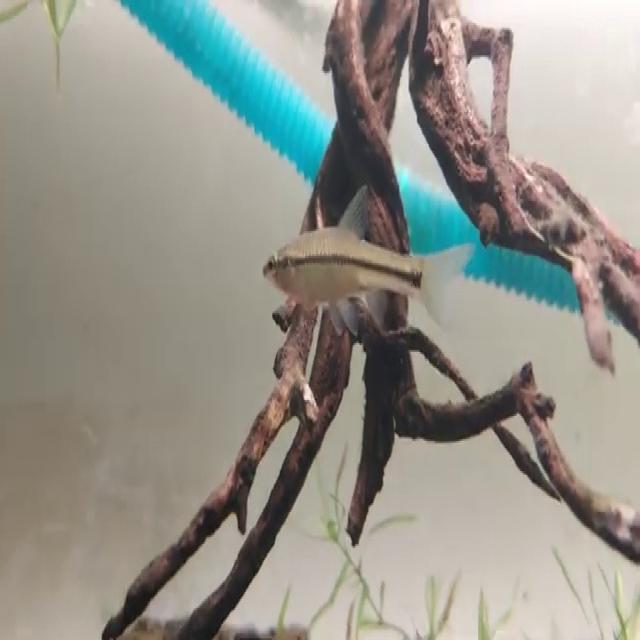Cakil Baligi: (258, 201, 469, 311)
